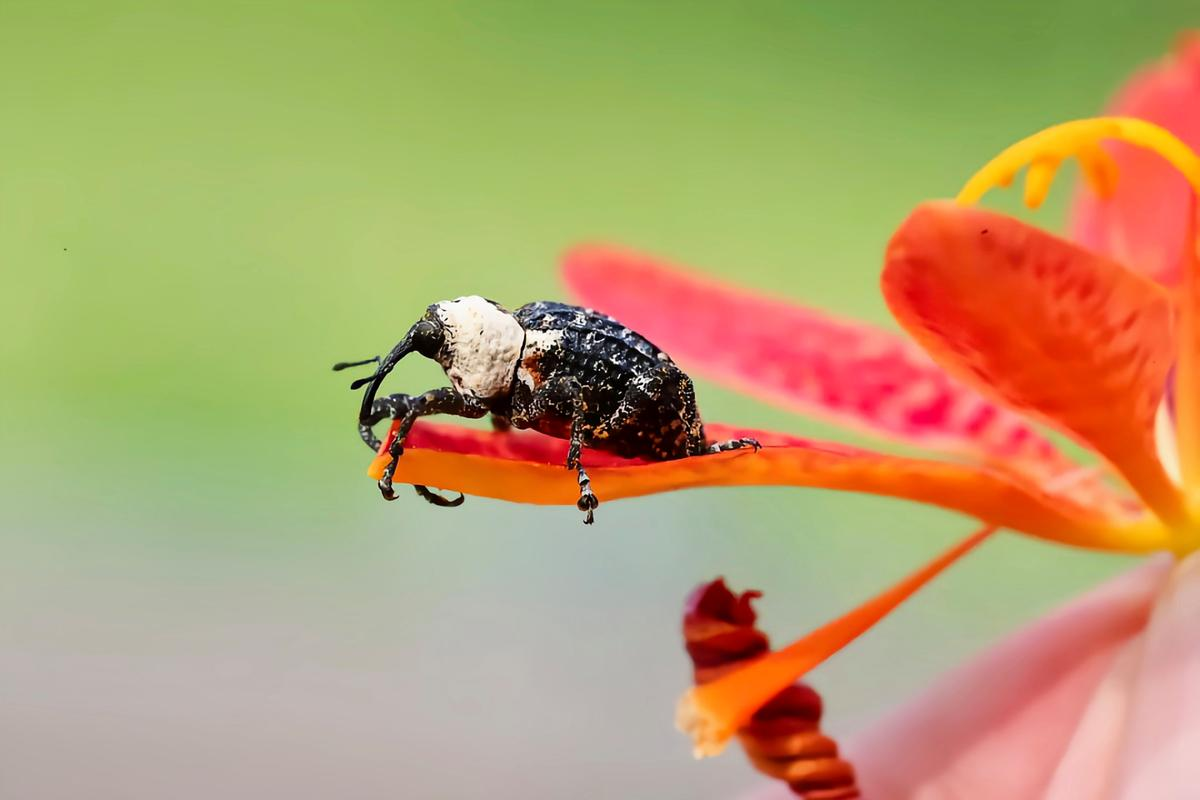Curculionidae: (329, 294, 763, 524)
